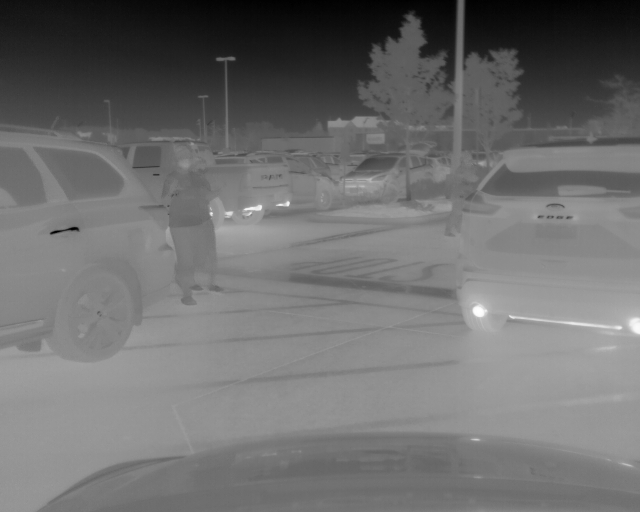car: (1, 123, 178, 365), (450, 142, 640, 342), (118, 138, 292, 220), (211, 153, 334, 222), (334, 151, 446, 205)
people: (163, 146, 224, 305), (448, 151, 480, 234)
